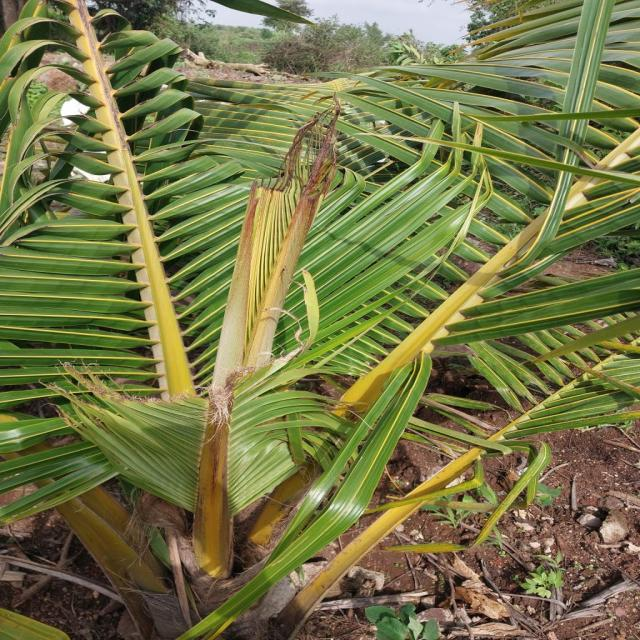bud rot: (193, 104, 340, 578)
